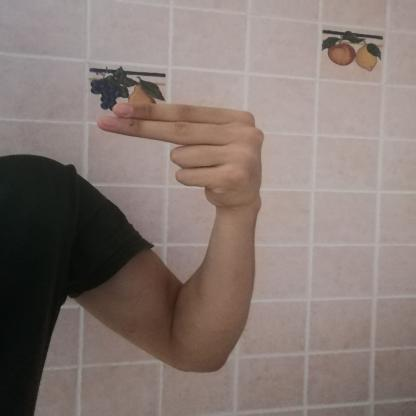AYN: (79, 90, 277, 218)
